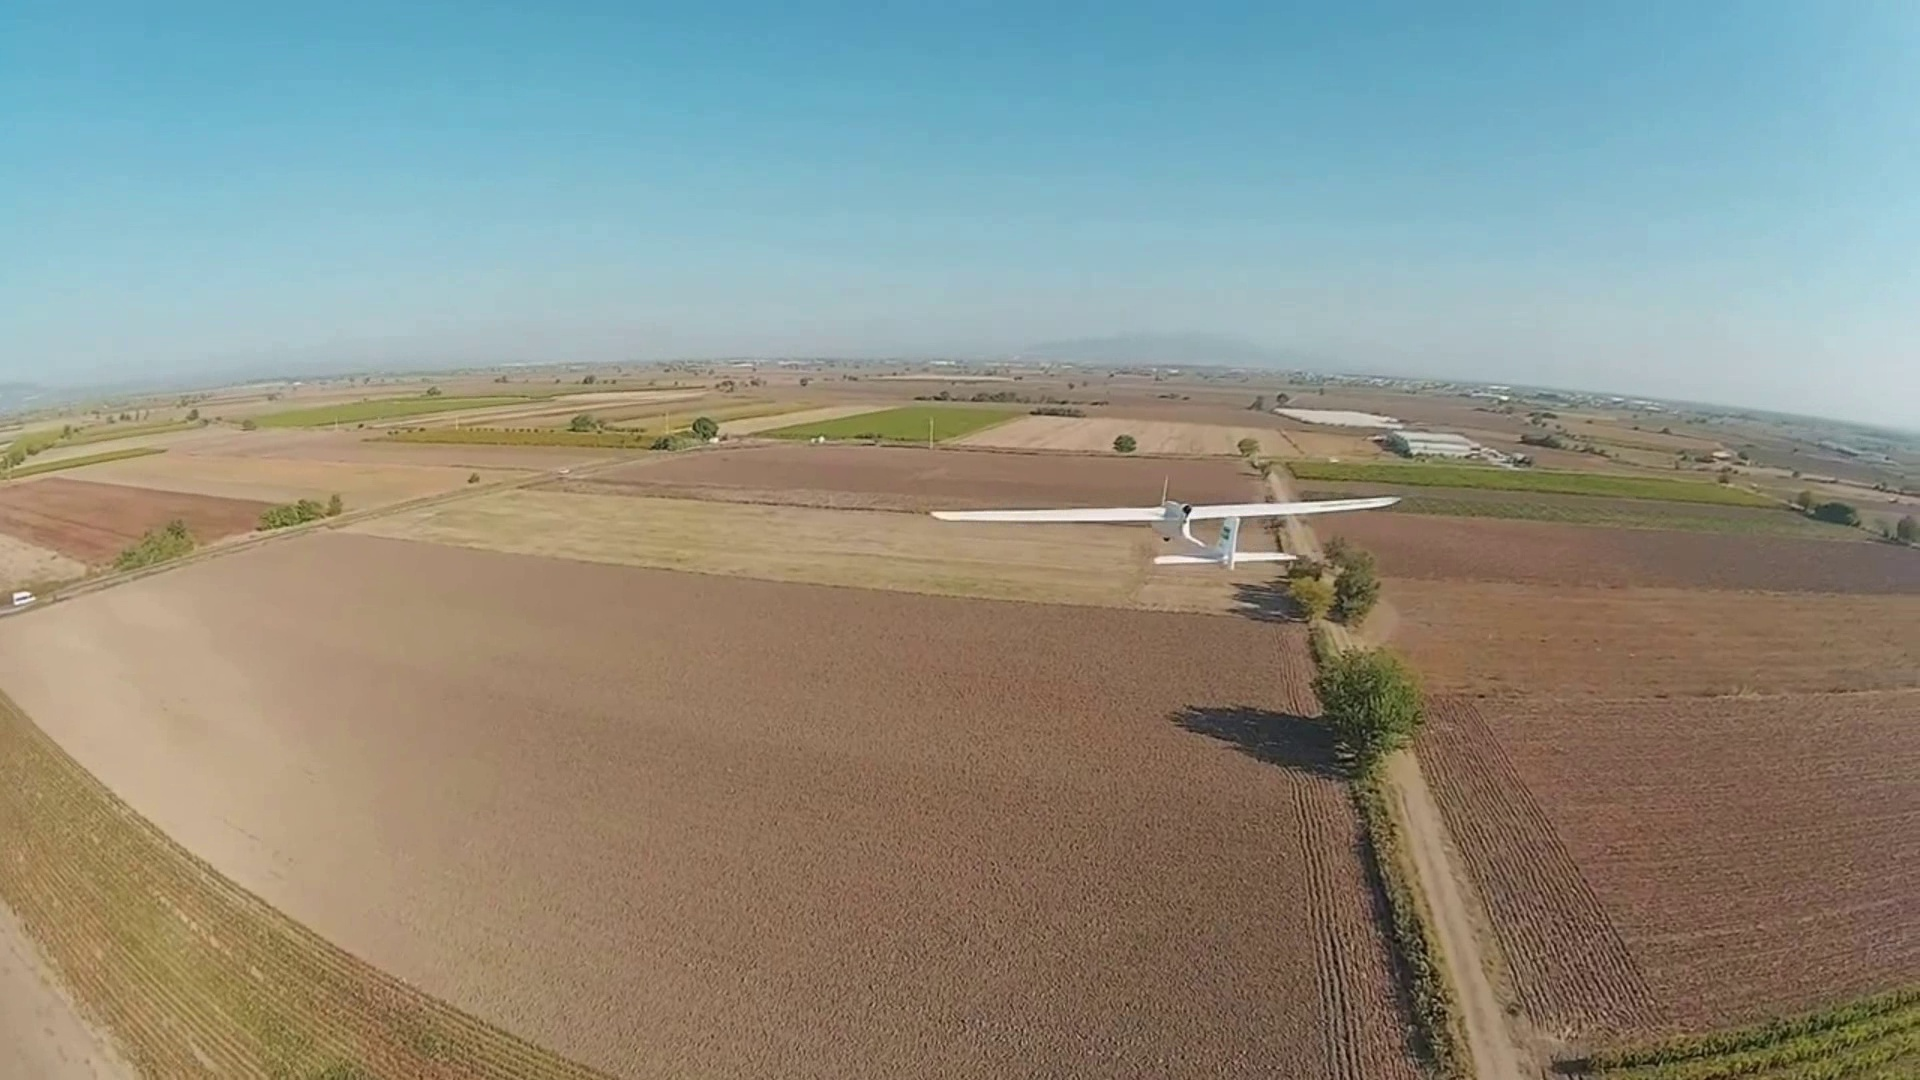airplane: (1254, 397, 1534, 467)
